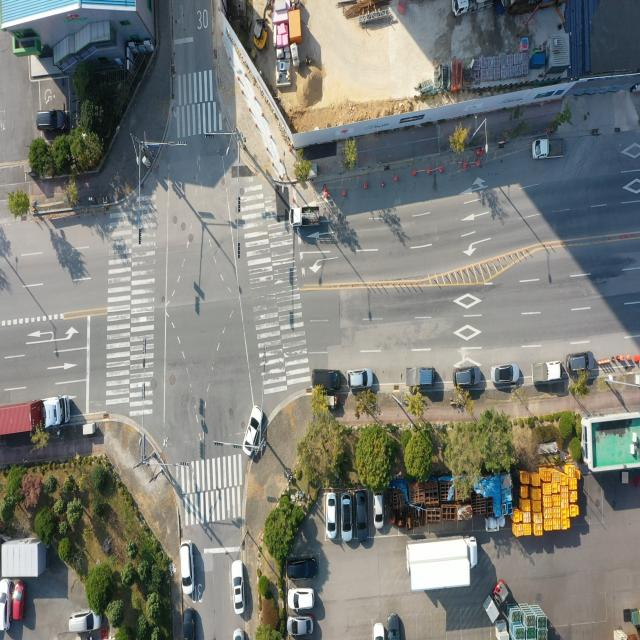car: (243, 405, 263, 455), (69, 610, 102, 637), (36, 107, 67, 132), (492, 362, 522, 386), (184, 542, 197, 597), (355, 492, 368, 542), (288, 560, 317, 582), (488, 369, 517, 391), (568, 352, 596, 374), (454, 367, 482, 389), (0, 582, 12, 632), (234, 562, 245, 615), (290, 590, 316, 612), (348, 369, 374, 391), (343, 495, 355, 542), (326, 494, 338, 540), (289, 618, 313, 639), (13, 580, 26, 614), (182, 607, 195, 640), (372, 494, 382, 529), (387, 614, 398, 640), (373, 624, 385, 640)
large_truck: (0, 397, 67, 439)
medium_truck: (404, 537, 476, 594), (451, 0, 474, 20)
small_truck: (532, 359, 564, 384), (404, 366, 437, 390), (314, 367, 345, 392), (533, 137, 566, 159), (288, 207, 320, 228)
